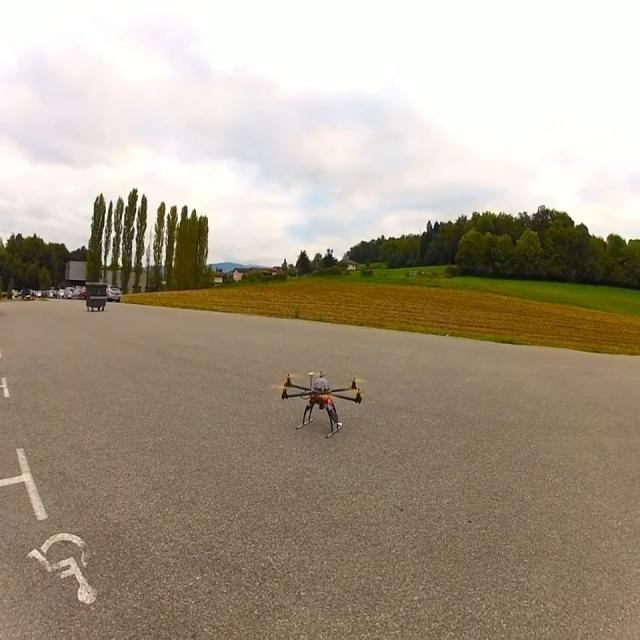drone: (280, 370, 362, 438)
